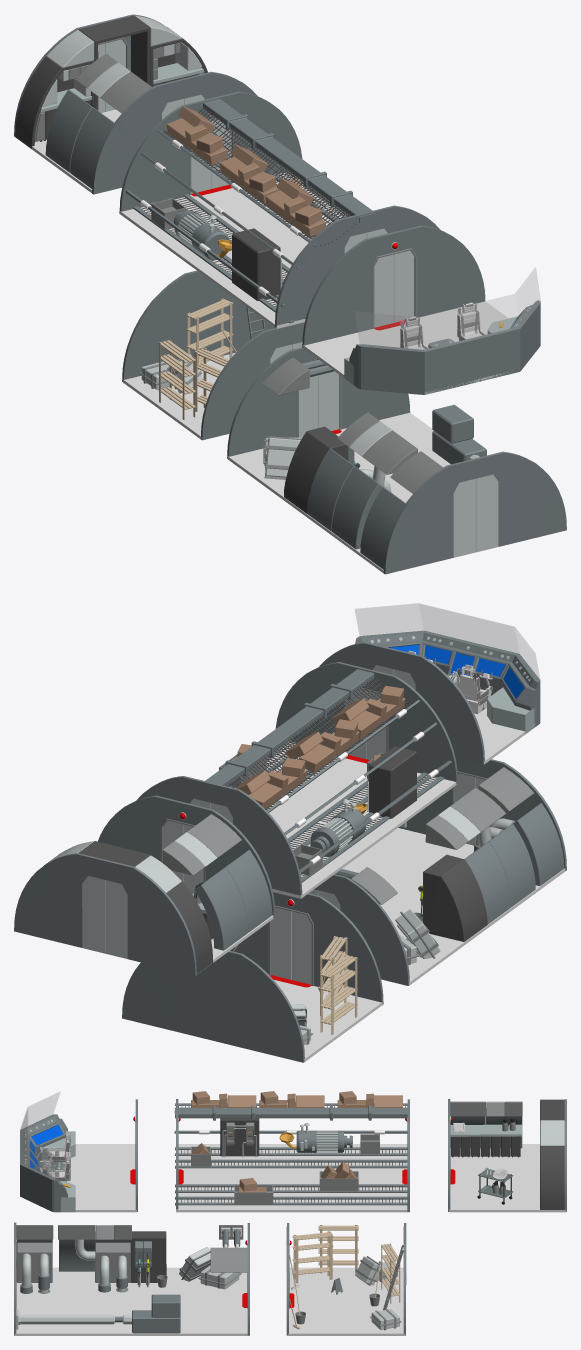
Rendered from All_rooms.fbx.
3 renders of one model, top to bottom at view 1: azimuth 30°, elevation 25°; view 2: azimuth 150°, elevation 25°; view 3: azimuth 270°, elevation 25°, orthographic. The views are drawn at different scales.
Parts seen in each view (by area): view 1: mur_separateur1 (×6), poste, mur_separateur3, vitre, grand_sol, Porte_d_01 (×3), mur_separateur2, Porte_d_02 (×3), mur_arondi, sol_cokpit, poutre, grand_sol1 (+23 smaller); view 2: mur_separateur1 (×7), mur_separateur3, grand_sol, grand_sol1, mur_separateur2, vitre, mur_arondi, box_6, poste, poutre, petit_sol_d, armoire (+29 smaller); view 3: grand_sol1, grand_sol, petit_sol_d, petit_sol, sol_cokpit, poste, poutre, mur_separateur1 (×7), tuyeau_engine, vitre, structure, placard_sol_01 (+50 smaller).
Part boxes in pixels (x1,y1,x2,y2): mur_separateur1 (×6): (92, 71, 566, 574); poste: (349, 300, 540, 394); mur_separateur3: (122, 270, 274, 382); vitre: (355, 267, 540, 351); grand_sol: (119, 172, 346, 328); Porte_d_01 (×3): (318, 250, 475, 557); mur_separateur2: (201, 322, 304, 440); Porte_d_02 (×3): (299, 254, 498, 552); mur_arondi: (45, 89, 114, 188); sol_cokpit: (303, 301, 510, 394); poutre: (203, 99, 376, 223); grand_sol1: (227, 412, 450, 573); mur_separateur1 (×7): (14, 642, 566, 985); mur_separateur3: (122, 951, 304, 1062); grand_sol: (230, 742, 457, 898); grand_sol1: (342, 828, 565, 985); mur_separateur2: (230, 892, 383, 1004); vitre: (355, 603, 539, 678); mur_arondi: (194, 850, 272, 950); box_6: (423, 854, 487, 941); poste: (355, 630, 540, 727); poutre: (205, 669, 374, 786); petit_sol_d: (274, 980, 382, 1062); armoire: (369, 746, 416, 818); grand_sol1: (15, 1267, 248, 1335); grand_sol: (176, 1144, 409, 1212); petit_sol_d: (288, 1267, 404, 1335); petit_sol: (449, 1144, 566, 1212); sol_cokpit: (39, 1144, 136, 1212); poste: (20, 1114, 70, 1212); poutre: (175, 1105, 407, 1120); mur_separateur1 (×7): (14, 1099, 566, 1335); tuyeau_engine: (20, 1239, 128, 1293); vitre: (20, 1092, 60, 1179); structure: (540, 1135, 564, 1209); placard_sol_01: (451, 1136, 520, 1156).
Size of the model in its own units: 4.01 by 5.54 by 14.18.
